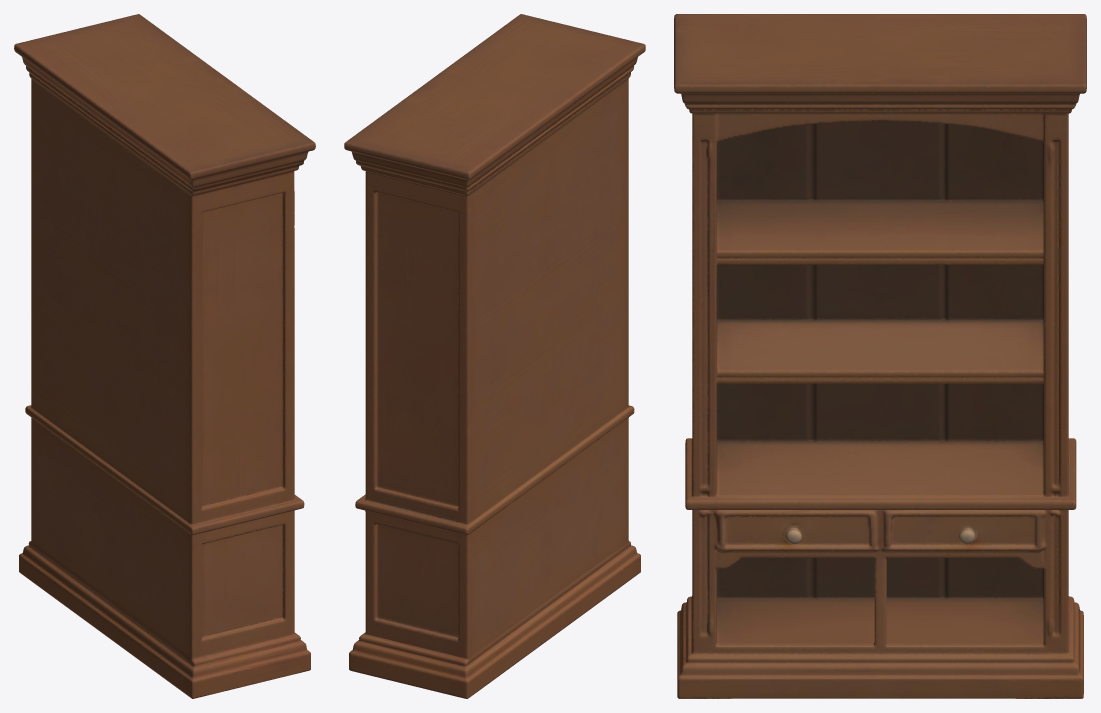
File: detailed_realistic_model_antiquebookshelf_24.glb
3 renders of one model, left to right at view 1: azimuth 30°, elevation 25°; view 2: azimuth 150°, elevation 25°; view 3: azimuth 270°, elevation 25°, orthographic. The views are drawn at different scales.
Visible parts, largest first — view 1: tripo_node_d23a8612-27e4-408c-9eb5-84a31694a32f; view 2: tripo_node_d23a8612-27e4-408c-9eb5-84a31694a32f; view 3: tripo_node_d23a8612-27e4-408c-9eb5-84a31694a32f.
Boxes of the visible parts, x1,y1,x2,y2 form: tripo_node_d23a8612-27e4-408c-9eb5-84a31694a32f: (14, 14, 315, 698); tripo_node_d23a8612-27e4-408c-9eb5-84a31694a32f: (344, 14, 645, 698); tripo_node_d23a8612-27e4-408c-9eb5-84a31694a32f: (674, 14, 1086, 698).
Size of the model in its own units: 0.2501 by 1 by 0.6068.
1 material, 1 textured.
